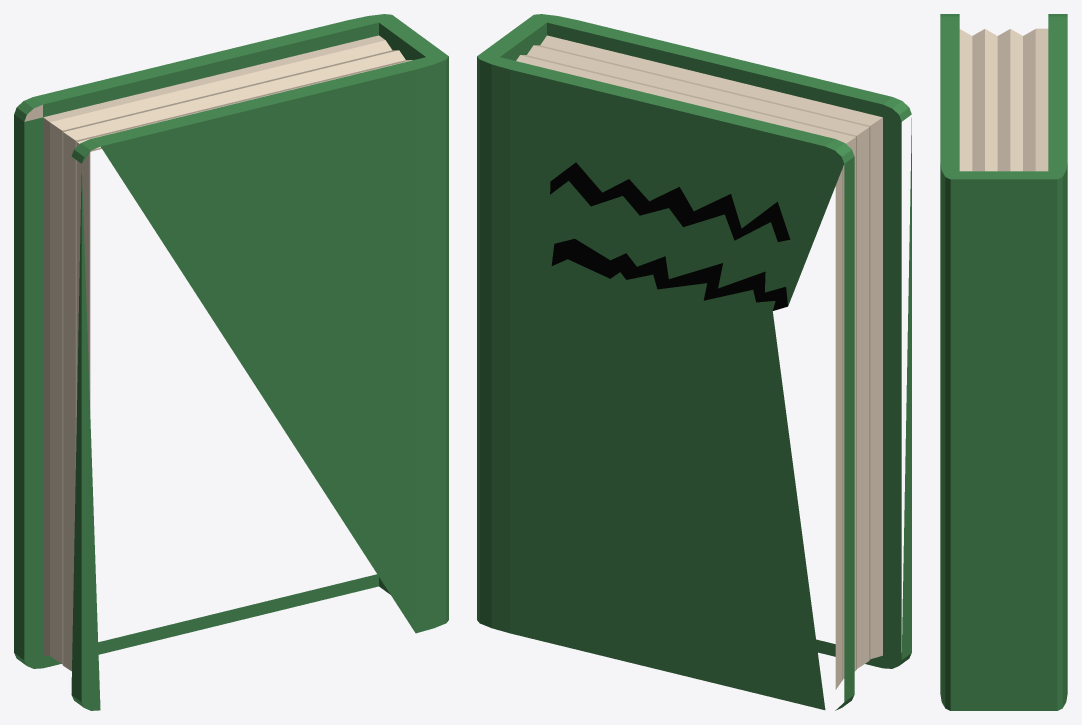
The model's file is Book Green.glb.
3 renders of one model, left to right at view 1: azimuth 30°, elevation 25°; view 2: azimuth 150°, elevation 25°; view 3: azimuth 270°, elevation 25°, orthographic. The views are drawn at different scales.
Visible parts, largest first — view 1: book_green; view 2: book_green; view 3: book_green.
Part boxes in pixels (<box>): book_green: <box>14,14,448,710</box>; book_green: <box>477,14,911,710</box>; book_green: <box>940,14,1067,710</box>.
Bounding box in the file's own units: 0.2716 × 0.3928 × 0.0853.
